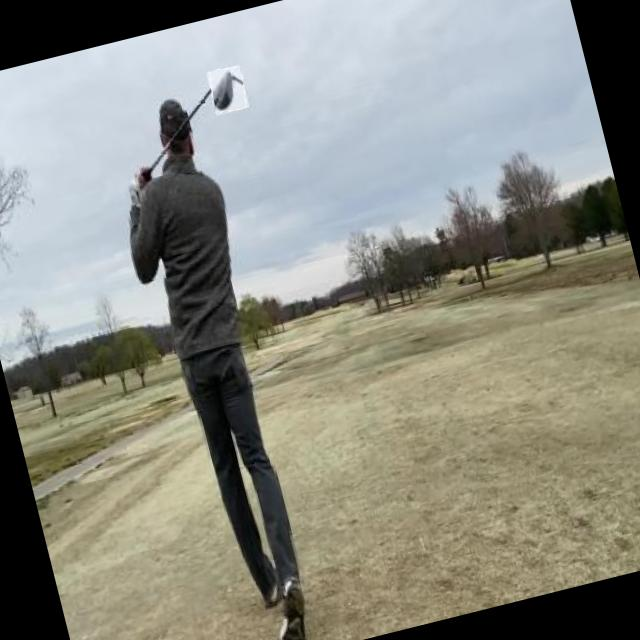club head: (206, 64, 250, 115)
